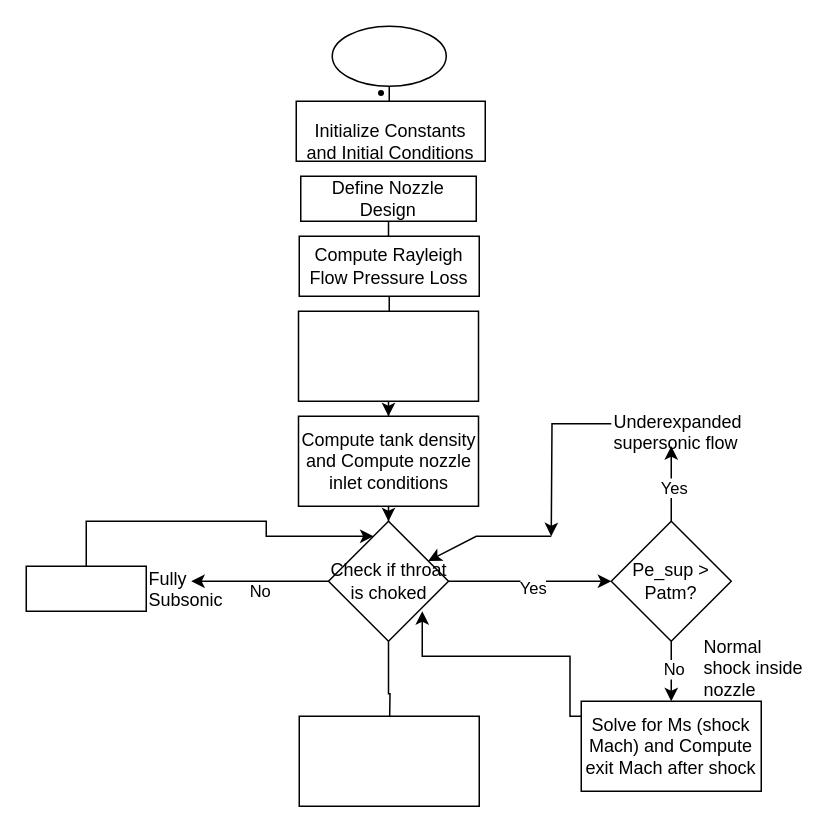
This 833x833 diagram has some shape labels left out. The centre of each missing label's shape, as x and y in pixels:
Compute exit velocity & thrust: (x=388, y=760)
Compute Me(i): (x=85, y=588)
Loop: For each time step t(i): (x=387, y=355)
start: (x=388, y=55)
